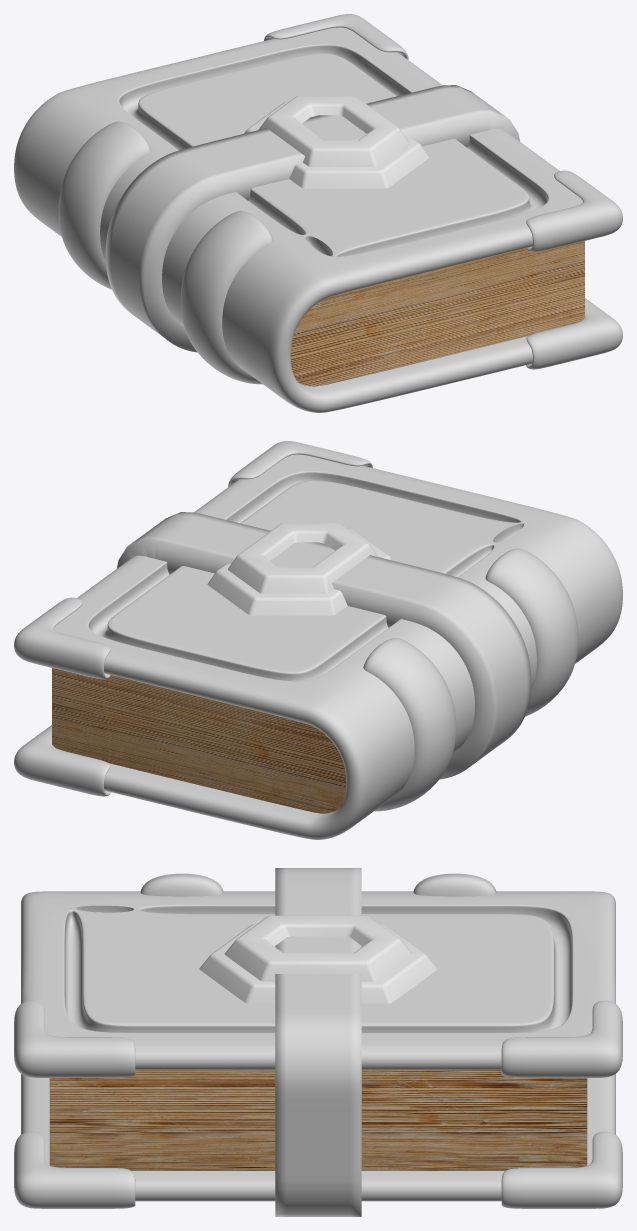
The model's file is Book3.fbx.
The picture shows the model from 3 angles, top to bottom: view 1: azimuth 30°, elevation 25°; view 2: azimuth 150°, elevation 25°; view 3: azimuth 270°, elevation 25°; orthographic projection. The views are drawn at different scales.
Parts seen in each view (by area): view 1: Pages.001, Pages, Pages.004, Pages.002, Cylinder.001, Pages.003; view 2: Pages.001, Pages, Pages.004, Pages.002, Cylinder.001, Pages.003; view 3: Pages.001, Pages, Pages.004, Pages.003, Cylinder.001, Pages.002.
Boxes of the visible parts, box(x1,y1,x2,y2) form: Pages.001: box(14, 27, 582, 412); Pages: box(290, 241, 584, 386); Pages.004: box(105, 85, 520, 352); Pages.002: box(58, 121, 273, 384); Cylinder.001: box(244, 96, 429, 188); Pages.003: box(264, 14, 622, 369); Pages.001: box(54, 454, 622, 839); Pages: box(52, 668, 346, 813); Pages.004: box(116, 512, 531, 779); Pages.002: box(363, 548, 578, 811); Cylinder.001: box(207, 523, 392, 615); Pages.003: box(14, 441, 372, 796); Pages.001: box(21, 891, 615, 1201); Pages: box(49, 1070, 587, 1170); Pages.004: box(275, 868, 361, 1216); Pages.003: box(14, 1000, 622, 1208); Cylinder.001: box(199, 915, 437, 1003); Pages.002: box(140, 873, 496, 896).
Bounding box in the file's own units: 465 × 216 × 582.
2 materials, 1 textured.
